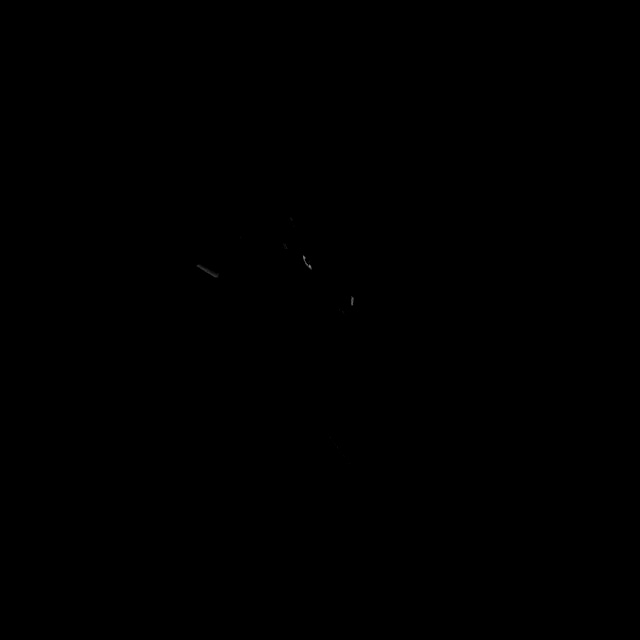medium_debris: (184, 174, 372, 468)
